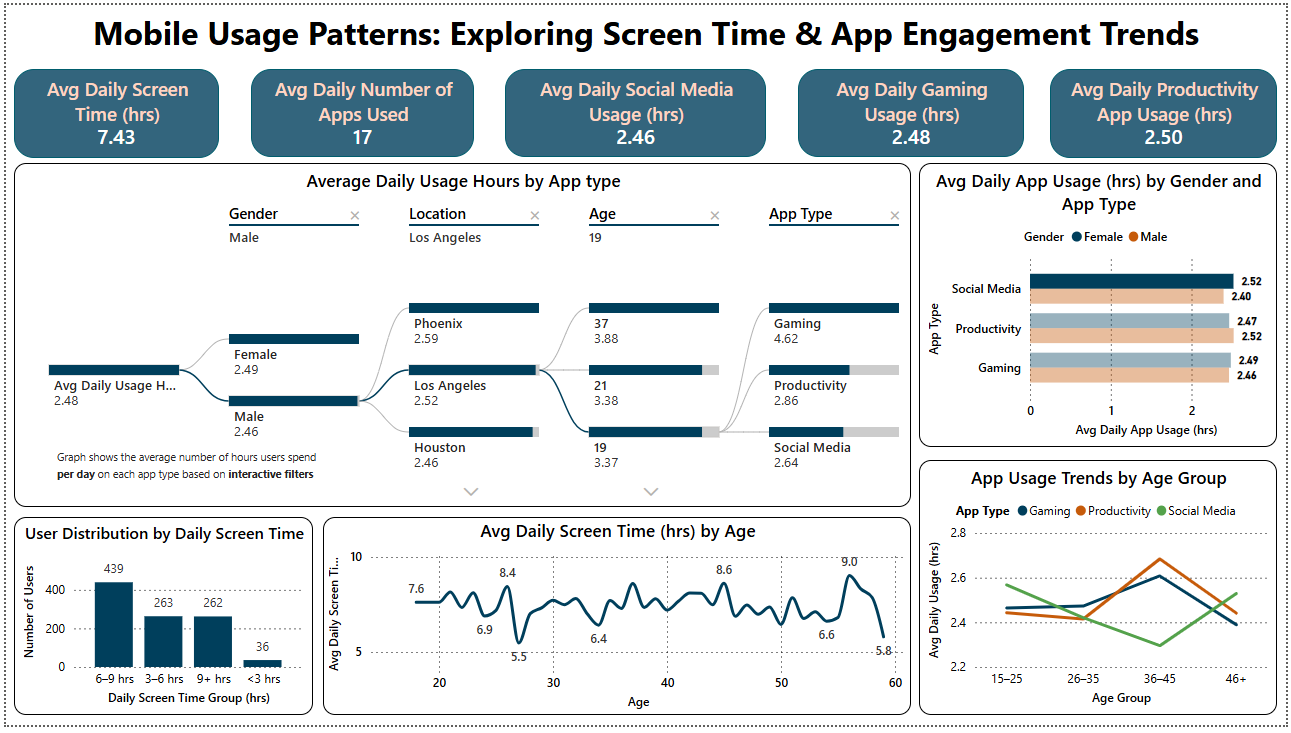

The page's visual inventory and layout, read from the dashboard file:
{"tool":"powerbi","page":{"name":"Page 1","canvas":[1280,720],"ordinal":0},"visuals":[{"type":"textbox","box":[0,0,1280,75.8],"z":0},{"type":"decompositionTreeVisual","title":"Average Daily Usage Hours by App type","fields":{"ExplainBy":["mobile_usage_behavioral_analysis.Gender","mobile_usage_behavioral_analysis.Location","mobile_usage_behavioral_analysis.Age","App_Usage_By_Type.App_Usage_Type"],"Analyze":["App_Usage_By_Type.Avg Daily Usage Hours by App Type"]},"box":[8.1,157.6,897.3,343.9],"z":0,"group":"g1"},{"type":"card","title":"Avg Daily Screen Time (hrs)","fields":{"Values":["Avg(mobile_usage_behavioral_analysis.Daily_Screen_Time_Hours)"]},"box":[8.1,63.6,205.1,89],"z":1000},{"type":"card","title":"Avg Daily Number of Apps Used","fields":{"Values":["Avg(mobile_usage_behavioral_analysis.Number_of_Apps_Used)"]},"box":[245.4,63.6,223,88.7],"z":2000},{"type":"card","title":"Avg Daily Social Media Usage (hrs)","fields":{"Values":["Avg(mobile_usage_behavioral_analysis.Social_Media_Usage_Hours)"]},"box":[499,63.6,260.6,88.7],"z":3000},{"type":"card","title":"Avg Daily Productivity App Usage (hrs)","fields":{"Values":["Avg(mobile_usage_behavioral_analysis.Productivity_App_Usage_Hours)"]},"box":[1044.2,63.6,226.6,89],"z":4000},{"type":"card","title":"Avg Daily Gaming Usage (hrs)","fields":{"Values":["Avg(mobile_usage_behavioral_analysis.Gaming_App_Usage_Hours)"]},"box":[791.6,63.6,226.6,88.7],"z":5000},{"type":"lineChart","title":"Avg Daily Screen Time (hrs) by Age","fields":{"Y":["Avg(mobile_usage_behavioral_analysis.Daily_Screen_Time_Hours)"],"Category":["mobile_usage_behavioral_analysis.Age (bins)"]},"box":[317,512.2,588.4,197.9],"z":6000},{"type":"clusteredColumnChart","title":"User Distribution by Daily Screen Time","fields":{"Category":["mobile_usage_behavioral_analysis.ScreenTimeGroup"],"Y":["CountNonNull(mobile_usage_behavioral_analysis.User_ID)"]},"box":[8.1,512.2,299.1,197.9],"z":7000},{"type":"clusteredBarChart","title":"Avg Daily App Usage (hrs) by Gender and App Type","fields":{"Category":["App_Usage_By_Type.App Type"],"Y":["Avg(App_Usage_By_Type.Usage_Hours)"],"Series":["GenderLookup.Gender"]},"box":[913.4,157.6,357.3,284.8],"z":8000},{"type":"lineChart","title":"App Usage Trends by Age Group","fields":{"Y":["Avg(App_Usage_By_Type.Usage_Hours)"],"Series":["App_Usage_By_Type.App Type"],"Category":["App_Usage_By_Type.Age_Group"]},"box":[913.4,454.9,357.3,255.2],"z":9000},{"type":"textbox","box":[45.9,436.5,281.6,61.4],"z":11000,"group":"g1"},{"type":"group","id":"g1","title":"Group 1","box":[8.1,157.6,897.3,343.9],"z":11001}]}

Visuals, with their boxes in screenshot pixels (x1, y1, x2, y2), scaled from the page's 1280x720 canvas onto the 1291x733 screenshot:
textbox: x1=0 y1=0 x2=1290 y2=77
"Average Daily Usage Hours by App type" decompositionTreeVisual: x1=8 y1=160 x2=913 y2=511
"Avg Daily Screen Time (hrs)" card: x1=8 y1=65 x2=215 y2=155
"Avg Daily Number of Apps Used" card: x1=248 y1=65 x2=472 y2=155
"Avg Daily Social Media Usage (hrs)" card: x1=503 y1=65 x2=766 y2=155
"Avg Daily Productivity App Usage (hrs)" card: x1=1053 y1=65 x2=1282 y2=155
"Avg Daily Gaming Usage (hrs)" card: x1=798 y1=65 x2=1027 y2=155
"Avg Daily Screen Time (hrs) by Age" lineChart: x1=320 y1=521 x2=913 y2=723
"User Distribution by Daily Screen Time" clusteredColumnChart: x1=8 y1=521 x2=310 y2=723
"Avg Daily App Usage (hrs) by Gender and App Type" clusteredBarChart: x1=921 y1=160 x2=1282 y2=450
"App Usage Trends by Age Group" lineChart: x1=921 y1=463 x2=1282 y2=723
textbox: x1=46 y1=444 x2=330 y2=507
"Group 1" group: x1=8 y1=160 x2=913 y2=511
